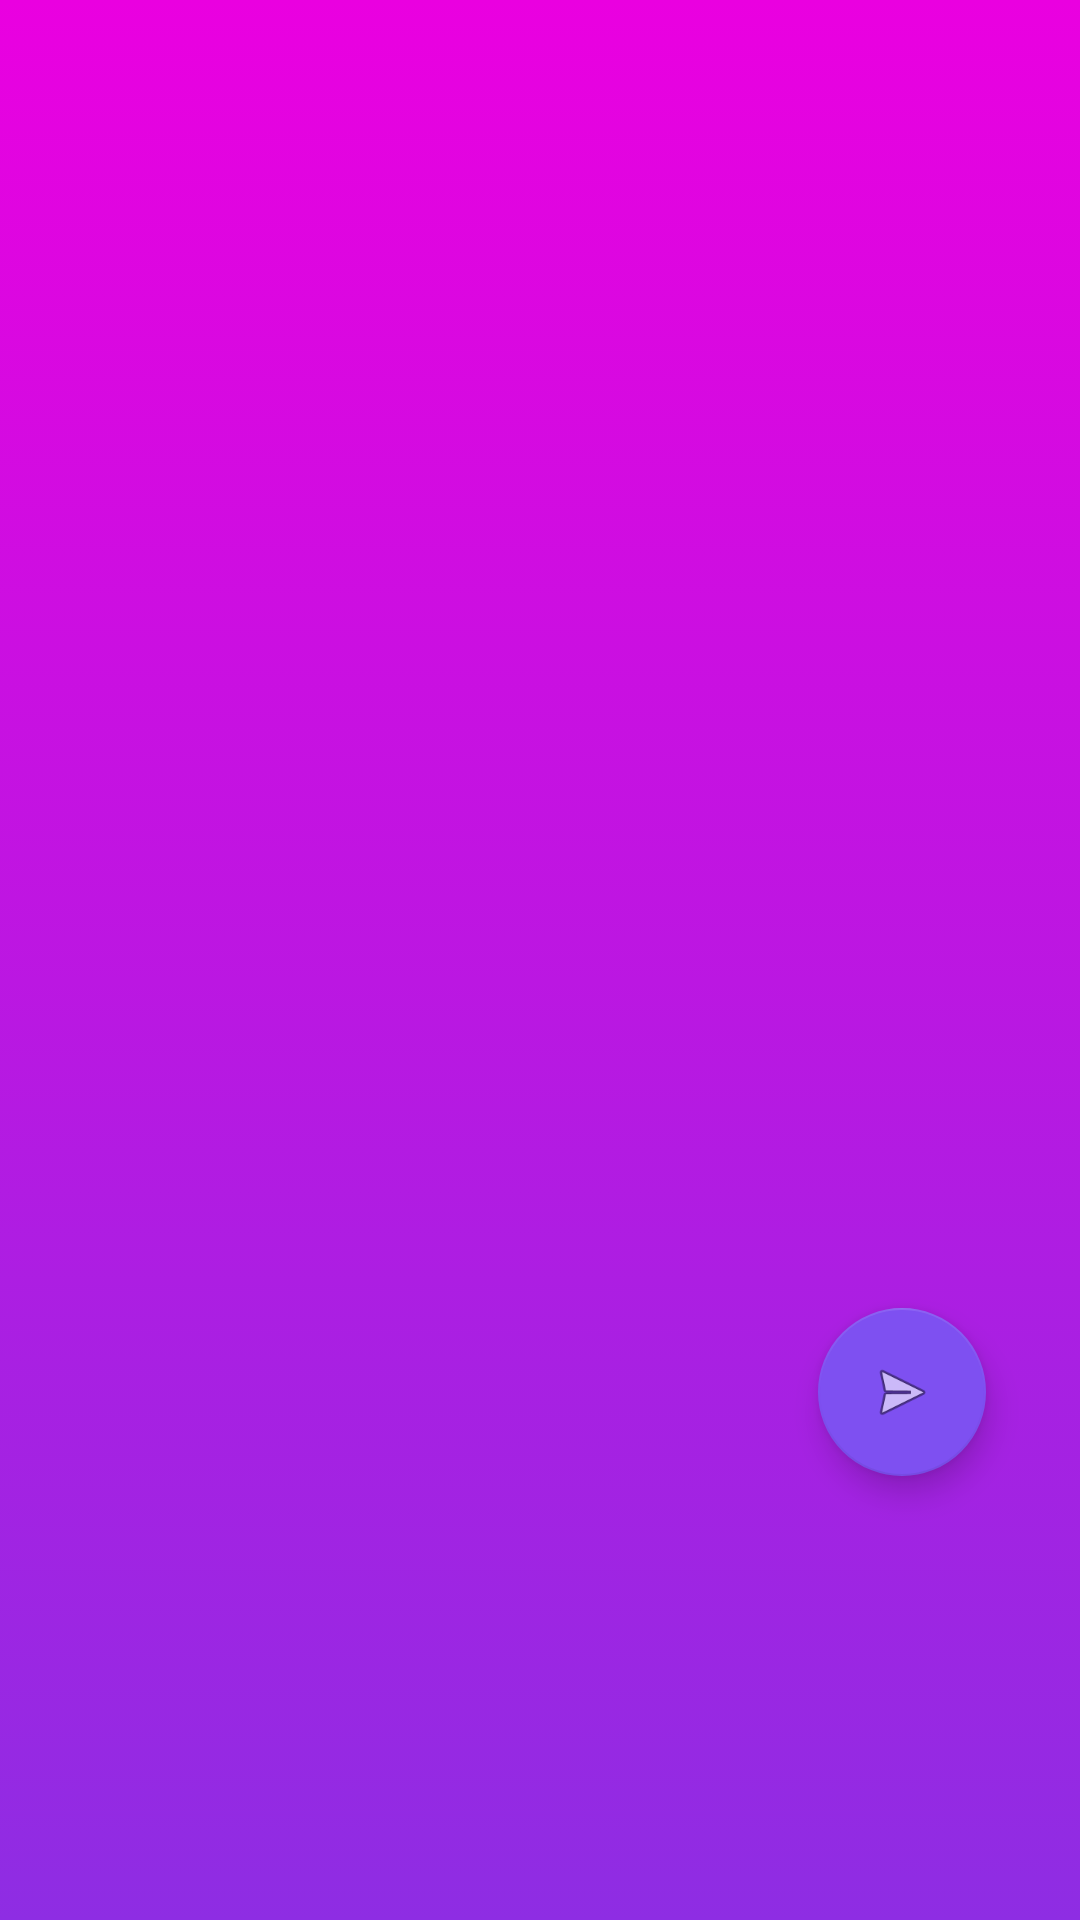

Icons on this 1080×1920 Android screen, each with its box as [left=x1, top=y1, right=x2, bottom=y2]:
send: [left=818, top=1308, right=986, bottom=1476]
